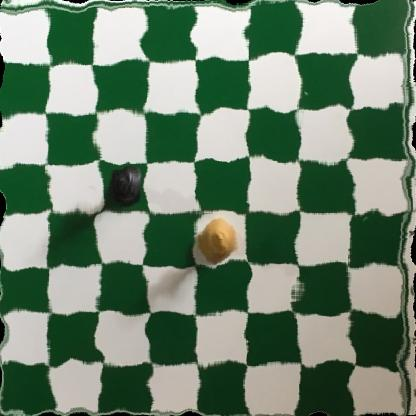black-king: (105, 159, 149, 208)
white-king: (195, 220, 243, 262)
